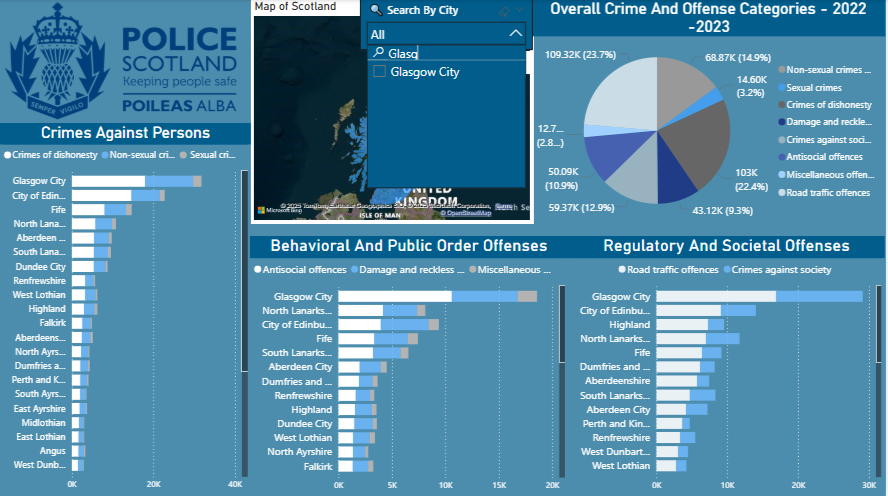

Layout of this report page (visuals, bound fields, positions):
{"tool":"powerbi","page":{"name":"Page 1","canvas":[1280,720],"ordinal":0},"visuals":[{"type":"pieChart","fields":{"Y":["Sum(Scotland Crime Report 2022-23, Cities Breakdown.All Group 1: Non-sexual crimes of violence)","Sum(Scotland Crime Report 2022-23, Cities Breakdown.All Group 2: Sexual crimes)","Sum(Scotland Crime Report 2022-23, Cities Breakdown.All Group 3: Crimes of dishonesty)","Sum(Scotland Crime Report 2022-23, Cities Breakdown.All Group 4: Damage and reckless behaviour)","Sum(Scotland Crime Report 2022-23, Cities Breakdown.All Group 5: Crimes against society)","Sum(Scotland Crime Report 2022-23, Cities Breakdown.All Group 6: Antisocial offences)","Sum(Scotland Crime Report 2022-23, Cities Breakdown.All Group 7: Miscellaneous offences)","Sum(Scotland Crime Report 2022-23, Cities Breakdown.All Group 8: Road traffic offences)"]},"box":[770.6,27.5,508.9,325.3],"z":0},{"type":"image","box":[0,0,348.4,179.3],"z":1000},{"type":"filledMap","fields":{"Category":["Scotland Crime Report 2022-23, Cities Breakdown.Reference Area"]},"box":[362.9,0,407.7,325.3],"z":2000},{"type":"barChart","title":"Crimes Against Persons","fields":{"Category":["Scotland Crime Report 2022-23, Cities Breakdown.Reference Area"],"Y":["Sum(Scotland Crime Report 2022-23, Cities Breakdown.All Group 3: Crimes of dishonesty)","Sum(Scotland Crime Report 2022-23, Cities Breakdown.All Group 1: Non-sexual crimes of violence)","Sum(Scotland Crime Report 2022-23, Cities Breakdown.All Group 2: Sexual crimes)"]},"box":[0,179.7,362.8,540.9],"z":3000},{"type":"barChart","title":"Behavioral And Public Order Offenses ","fields":{"Category":["Scotland Crime Report 2022-23, Cities Breakdown.Reference Area"],"Y":["Sum(Scotland Crime Report 2022-23, Cities Breakdown.All Group 6: Antisocial offences)","Sum(Scotland Crime Report 2022-23, Cities Breakdown.All Group 4: Damage and reckless behaviour)","Sum(Scotland Crime Report 2022-23, Cities Breakdown.All Group 7: Miscellaneous offences)"]},"box":[361.2,342.7,460.3,378],"z":4000},{"type":"barChart","title":"Regulatory And Societal Offenses ","fields":{"Category":["Scotland Crime Report 2022-23, Cities Breakdown.Reference Area"],"Y":["Sum(Scotland Crime Report 2022-23, Cities Breakdown.All Group 8: Road traffic offences)","Sum(Scotland Crime Report 2022-23, Cities Breakdown.All Group 5: Crimes against society)"]},"box":[821.2,342.7,458.3,377.3],"z":5000},{"type":"shape","title":"Overall Crime And Offense Categories - 2022 -2023","box":[769.3,0,510.7,53.8],"z":6000},{"type":"slicer","fields":{"Values":["Scotland Crime Report 2022-23, Cities Breakdown.Reference Area"]},"box":[520.5,0,250.1,73.7],"z":7000}]}

Visuals, with their boxes in screenshot pixels (x1, y1, x2, y2), scaled from the page's 1280x720 canvas onto the 888x496 screenshot:
pieChart - Sum(Scotland Crime Report 2022-23, Cities Breakdown.All Group 1: Non-sexual crimes of violence) x Sum(Scotland Crime Report 2022-23, Cities Breakdown.All Group 2: Sexual crimes): 535:19:887:243
image: 0:0:242:124
filledMap - Scotland Crime Report 2022-23, Cities Breakdown.Reference Area: 252:0:535:224
"Crimes Against Persons" barChart: 0:124:252:495
"Behavioral And Public Order Offenses " barChart: 251:236:570:495
"Regulatory And Societal Offenses " barChart: 570:236:887:495
"Overall Crime And Offense Categories - 2022 -2023" shape: 534:0:887:37
slicer - Scotland Crime Report 2022-23, Cities Breakdown.Reference Area: 361:0:535:51
